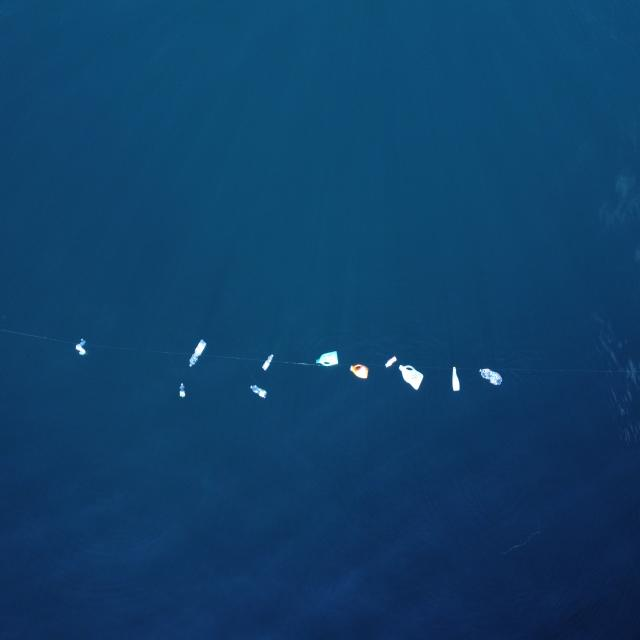bottles: (398, 363, 425, 392), (188, 337, 209, 370), (313, 348, 341, 369), (478, 366, 504, 388), (348, 361, 371, 380), (249, 382, 268, 400), (74, 336, 89, 358), (261, 351, 275, 373), (451, 363, 461, 392), (384, 353, 398, 370), (178, 381, 187, 399)
